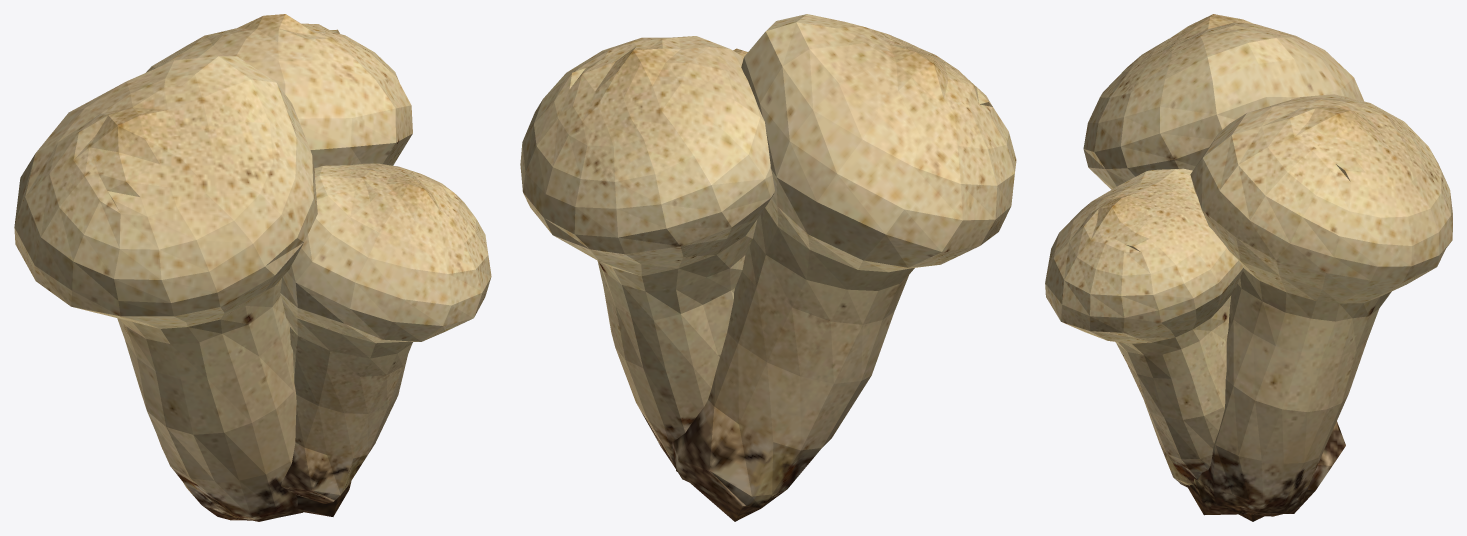
File: P_Baiyugu_03.obj
The picture shows the model from 3 angles, left to right: view 1: azimuth 30°, elevation 25°; view 2: azimuth 150°, elevation 25°; view 3: azimuth 270°, elevation 25°; orthographic projection. The views are drawn at different scales.
Size of the model in its own units: 0.5181 by 0.5985 by 0.4868.
1 material, 1 textured.
